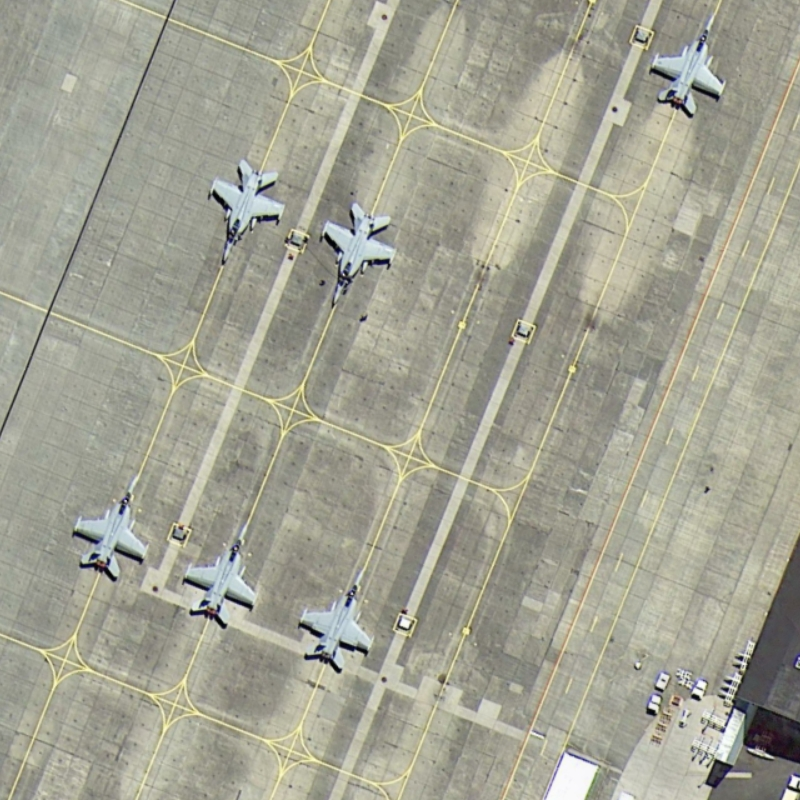A16: (286, 555, 384, 677), (310, 194, 403, 321), (199, 151, 293, 274), (60, 466, 155, 582), (171, 518, 267, 627), (637, 9, 732, 118)
